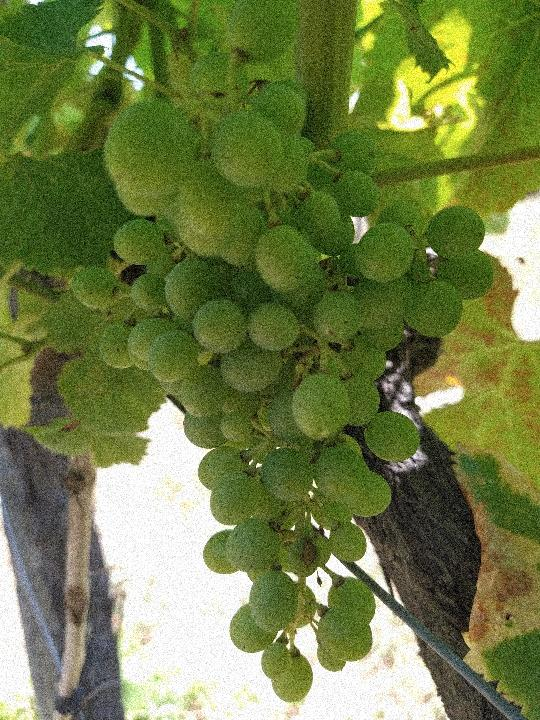grape: (68, 2, 496, 702)
